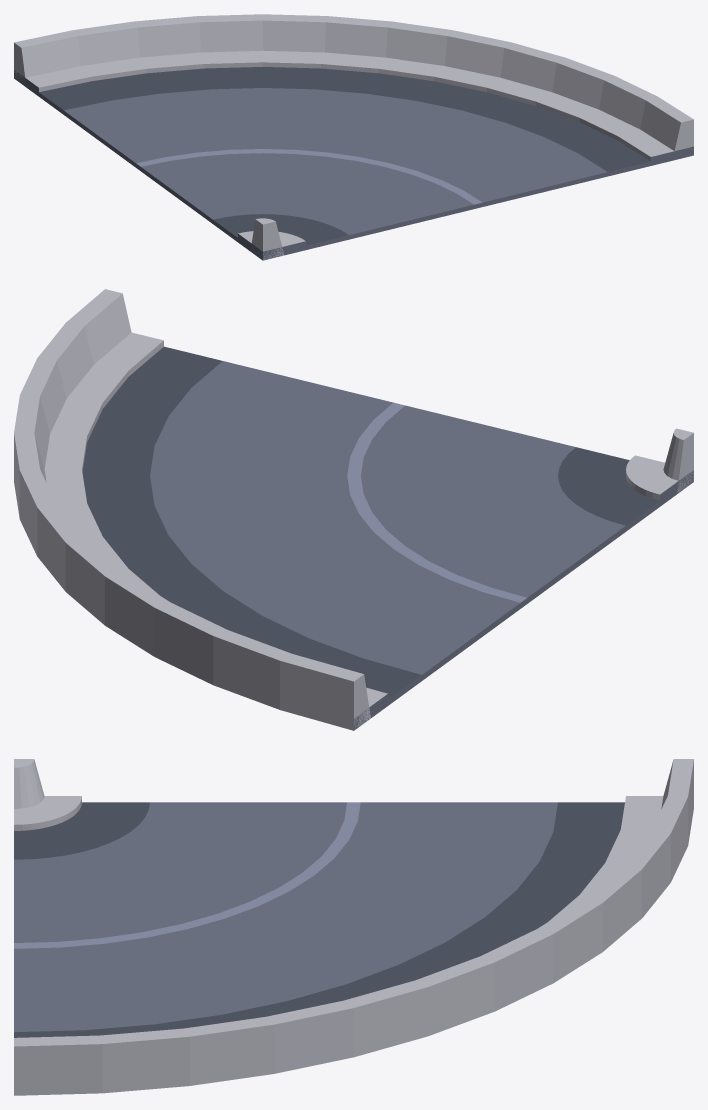
File: road_bend.glb
The picture shows the model from 3 angles, top to bottom: view 1: azimuth 30°, elevation 25°; view 2: azimuth 150°, elevation 25°; view 3: azimuth 270°, elevation 25°; orthographic projection. The views are drawn at different scales.
Visible parts, largest first — view 1: road_bend_595943, road_bend_e5c6b4, road_bend_4f08d9, road_bend_e84f99, road_bend_c3edab; view 2: road_bend_595943, road_bend_e5c6b4, road_bend_4f08d9, road_bend_e84f99, road_bend_c3edab; view 3: road_bend_595943, road_bend_e5c6b4, road_bend_4f08d9, road_bend_e84f99, road_bend_c3edab.
Boxes of the visible parts, box(x1,y1,x2,y2) form: road_bend_595943: box(14, 70, 693, 260); road_bend_e5c6b4: box(14, 14, 693, 260); road_bend_4f08d9: box(39, 67, 650, 245); road_bend_e84f99: box(25, 50, 673, 246); road_bend_c3edab: box(136, 149, 482, 204); road_bend_595943: box(150, 361, 693, 730); road_bend_e5c6b4: box(14, 289, 693, 730); road_bend_4f08d9: box(82, 346, 659, 699); road_bend_e84f99: box(14, 332, 677, 730); road_bend_c3edab: box(347, 402, 526, 602); road_bend_595943: box(14, 802, 557, 1032); road_bend_e5c6b4: box(14, 759, 693, 1095); road_bend_4f08d9: box(14, 802, 624, 1037); road_bend_e84f99: box(14, 796, 693, 1095); road_bend_c3edab: box(14, 802, 360, 948).
Size of the model in its own units: 1 by 0.08 by 1.
